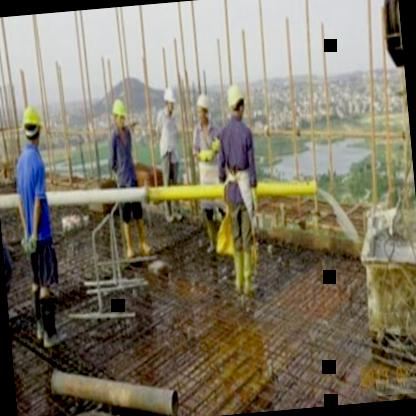helmet: (17, 103, 44, 149), (226, 80, 248, 122), (109, 96, 131, 131), (161, 86, 178, 116), (194, 92, 212, 120)
